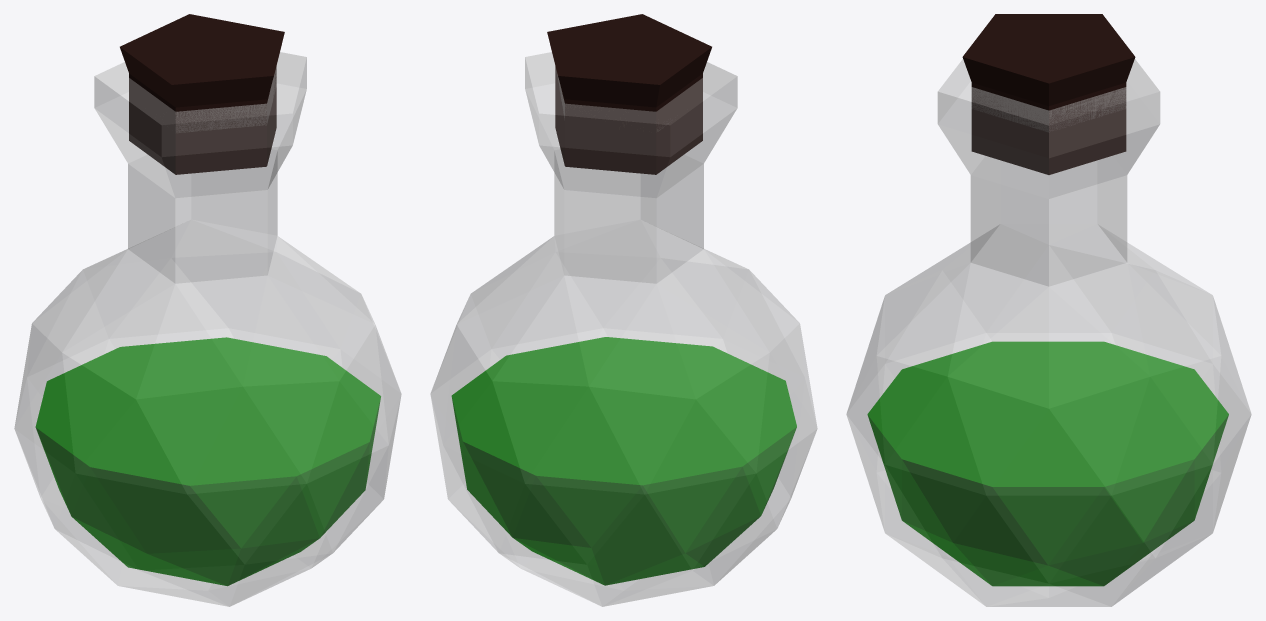
Rendered from Item_Cure.fbx.
3 views of the same model, side by side, from view 1: azimuth 30°, elevation 25°; view 2: azimuth 150°, elevation 25°; view 3: azimuth 270°, elevation 25° (orthographic). The views are drawn at different scales.
Parts seen in each view (by area): view 1: Icosphere, Icosphere1, Icosphere.001; view 2: Icosphere, Icosphere1, Icosphere.001; view 3: Icosphere, Icosphere1, Icosphere.001.
Boxes of the visible parts, bbox=[...] form: Icosphere: bbox=[14, 52, 401, 606]; Icosphere1: bbox=[35, 337, 380, 586]; Icosphere.001: bbox=[120, 14, 284, 174]; Icosphere: bbox=[430, 52, 817, 606]; Icosphere1: bbox=[451, 337, 796, 585]; Icosphere.001: bbox=[547, 14, 711, 174]; Icosphere: bbox=[846, 59, 1251, 606]; Icosphere1: bbox=[867, 341, 1228, 586]; Icosphere.001: bbox=[962, 14, 1135, 174].
Bounding box in the file's own units: 65.15 × 103 × 68.51.
